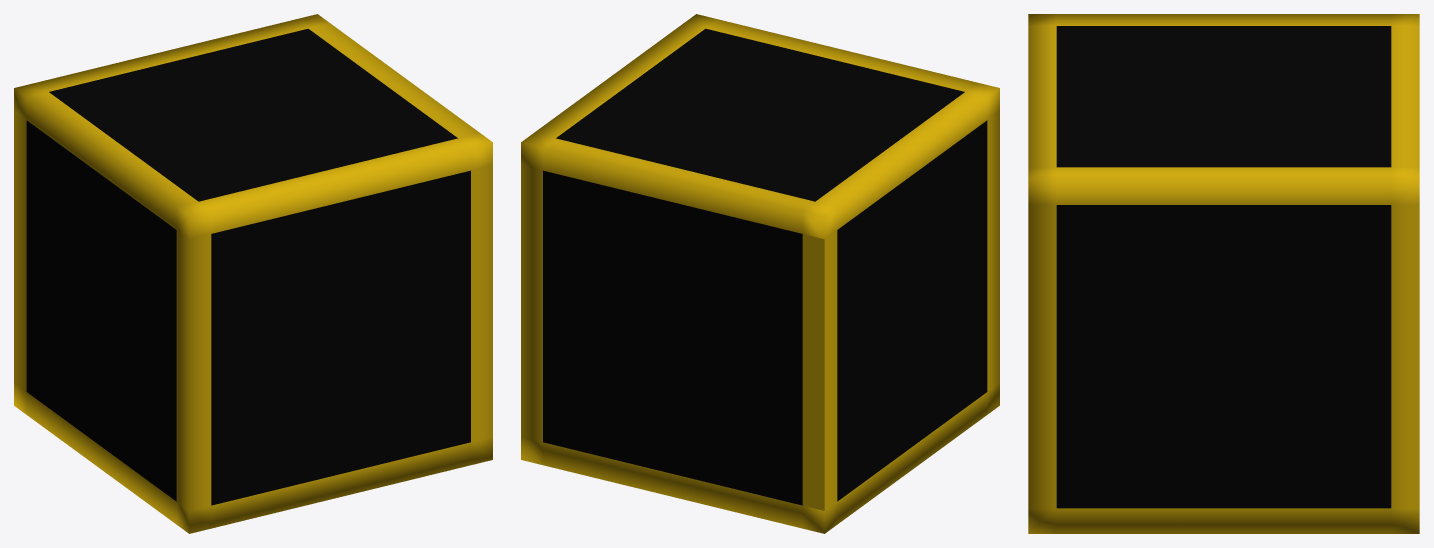
The model's file is CuboBuilding.fbx.
The picture shows the model from 3 angles, left to right: view 1: azimuth 30°, elevation 25°; view 2: azimuth 150°, elevation 25°; view 3: azimuth 270°, elevation 25°; orthographic projection. The views are drawn at different scales.
Visible parts, largest first — view 1: Cristal, Cube; view 2: Cristal, Cube; view 3: Cristal, Cube.
Part boxes in pixels (x1,y1,x2,y2): Cristal: [26, 28, 470, 505]; Cube: [14, 14, 492, 533]; Cristal: [543, 28, 987, 505]; Cube: [521, 14, 999, 533]; Cristal: [1056, 26, 1391, 508]; Cube: [1028, 14, 1419, 533].
Bounding box in the file's own units: 100 × 100 × 100.
